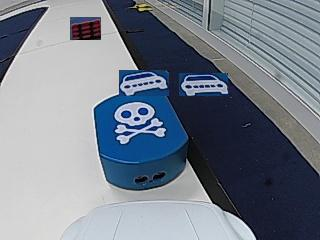danger: (114, 102, 162, 144)
